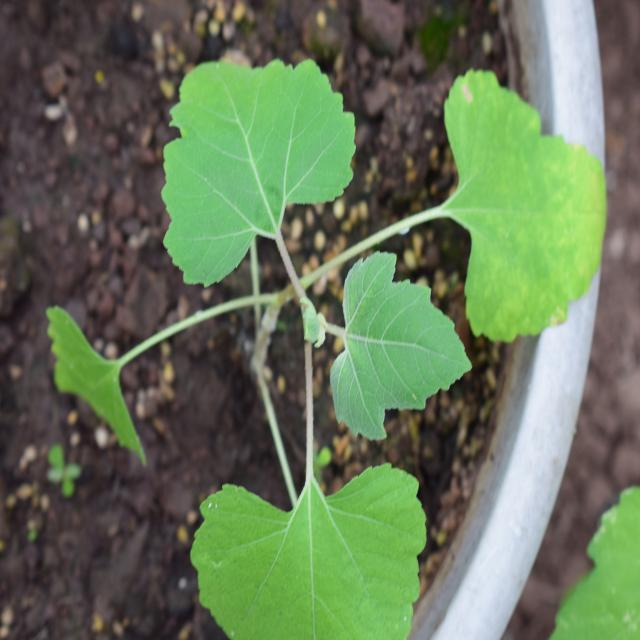cocklebur: (125, 58, 572, 620)
